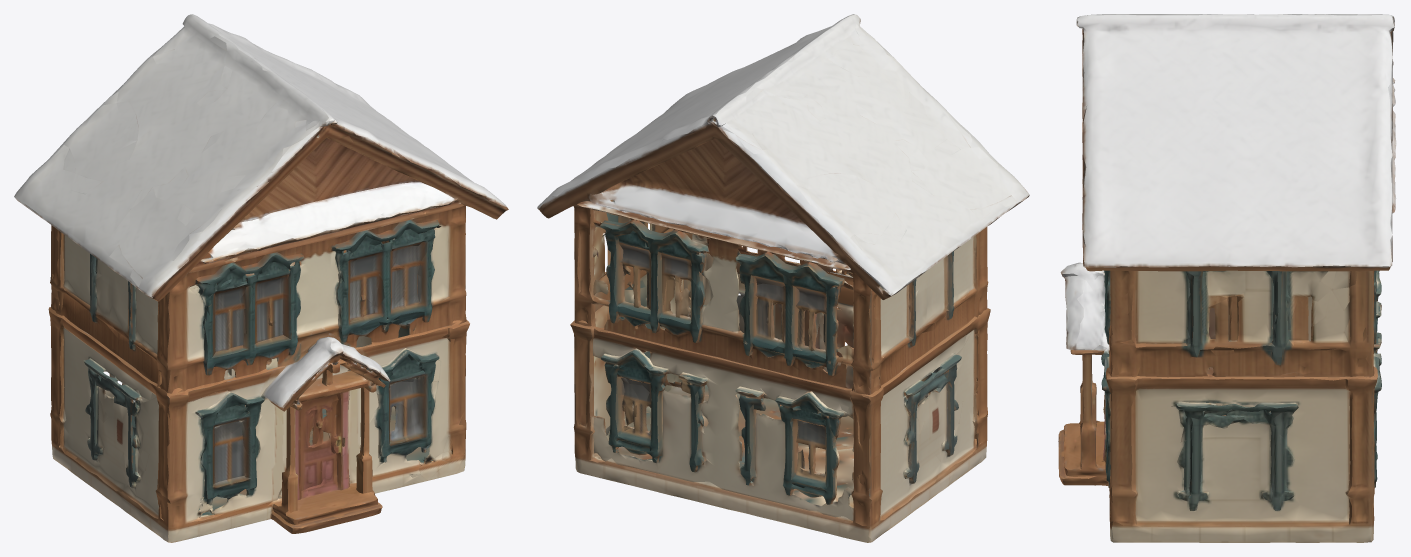
File: unified--village-house.glb
3 views of the same model, side by side, from view 1: azimuth 30°, elevation 25°; view 2: azimuth 150°, elevation 25°; view 3: azimuth 270°, elevation 25° (orthographic). The views are drawn at different scales.
Parts seen in each view (by area): view 1: village-house-0; view 2: village-house-0; view 3: village-house-0.
Boxes of the visible parts, x1=… form: village-house-0: x1=14, y1=14, x2=508, y2=542; village-house-0: x1=537, y1=14, x2=1029, y2=542; village-house-0: x1=1058, y1=14, x2=1396, y2=542.
Size of the model in its own units: 8 by 8.58 by 5.87.
1 material, 1 textured.
